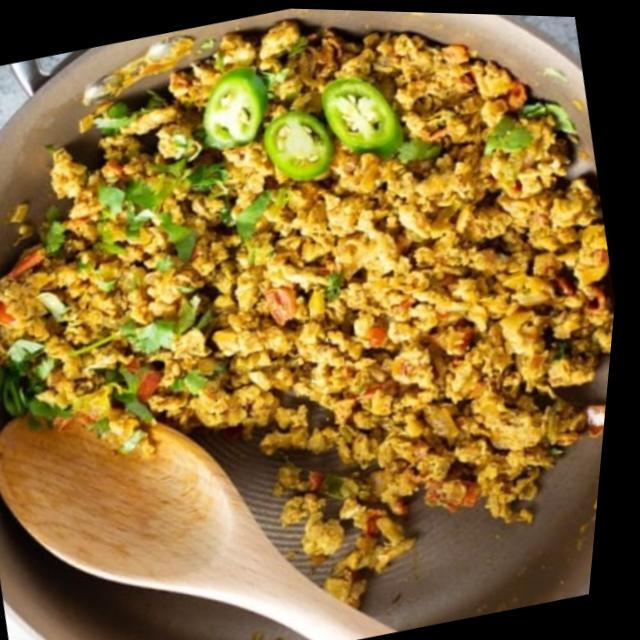EGG: (0, 28, 614, 599)
